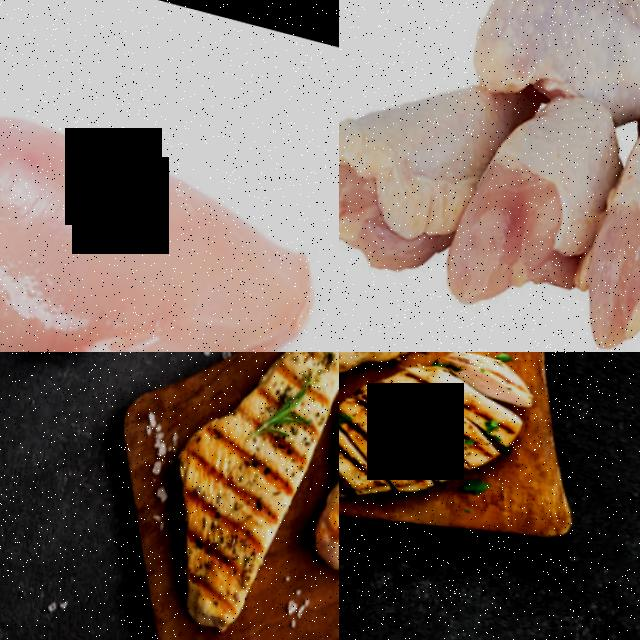chicken breast: (0, 32, 339, 352)
chicken thigh: (436, 72, 620, 322), (339, 42, 498, 280), (462, 0, 640, 145), (568, 85, 640, 352)
